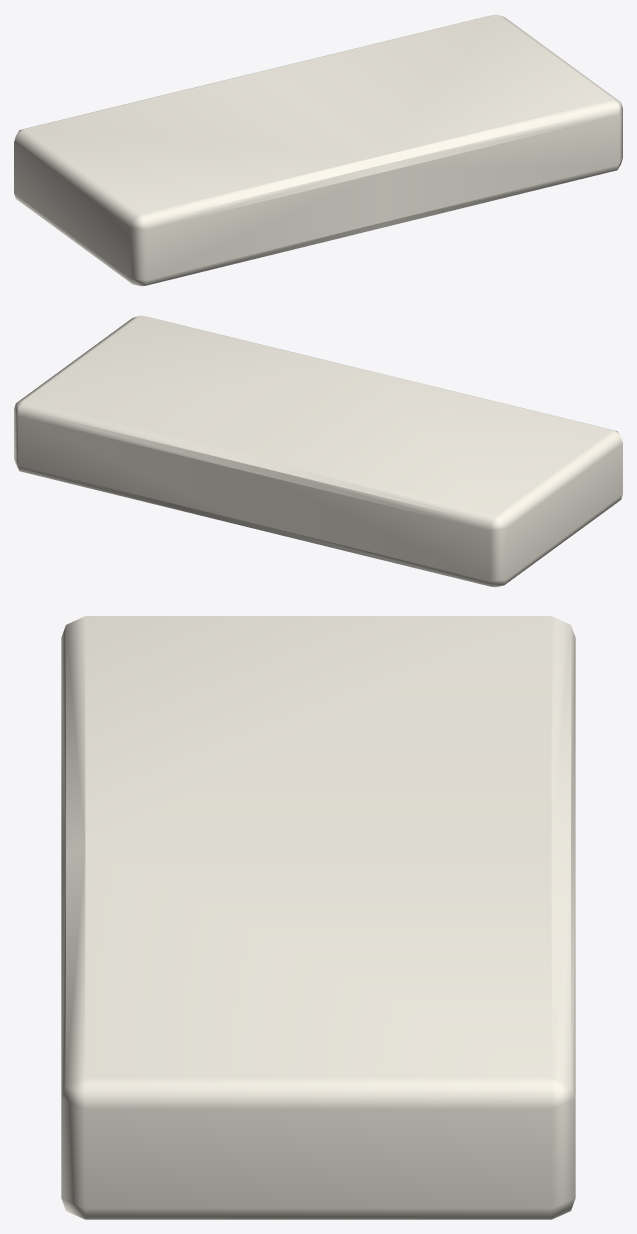
3 renders of one model, top to bottom at view 1: azimuth 30°, elevation 25°; view 2: azimuth 150°, elevation 25°; view 3: azimuth 270°, elevation 25°, orthographic. The views are drawn at different scales.
Visible parts, largest first — view 1: domino:domino:domino:domino:polySurface12; view 2: domino:domino:domino:domino:polySurface12; view 3: domino:domino:domino:domino:polySurface12.
Part boxes in pixels (<box>): domino:domino:domino:domino:polySurface12: <box>14,14,622,286</box>; domino:domino:domino:domino:polySurface12: <box>14,315,622,587</box>; domino:domino:domino:domino:polySurface12: <box>61,616,575,1219</box>.
Bounding box in the file's own units: 3.28 × 0.4579 × 1.48.
Materials: 1 (1 with a texture image).
